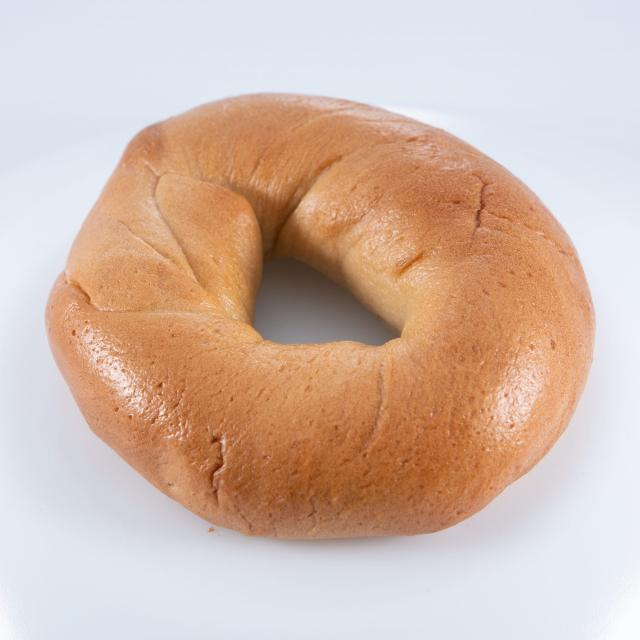Bagel: (46, 95, 594, 539)
